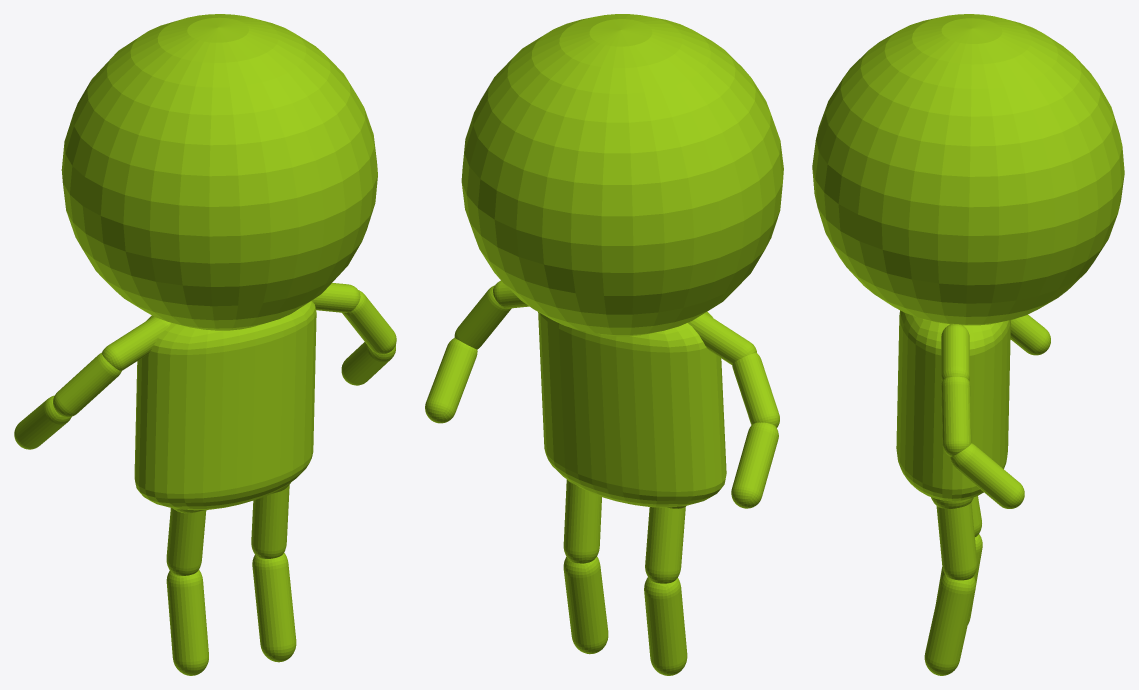
File: Stickman_000116.obj
3 views of the same model, side by side, from view 1: azimuth 30°, elevation 25°; view 2: azimuth 150°, elevation 25°; view 3: azimuth 270°, elevation 25° (orthographic). The views are drawn at different scales.
Parts seen in each view (by area): view 1: Head_Sphere.001, Body_Roundcube.002, LowerLegLeft_Roundcube.013, LowerLegRight_Roundcube.011, UpperLegLeft_Roundcube.012, UpperLegRight_Roundcube.010, UpperArmRight_Roundcube.015, ShoulderRight_Roundcube.014, UpperArmLeft_Roundcube.018, LowerArmRight_Roundcube.016, LowerArmLeft_Roundcube.019, ShoulderLeft_Roundcube.017; view 2: Head_Sphere.001, Body_Roundcube.002, LowerLegRight_Roundcube.011, LowerLegLeft_Roundcube.013, UpperLegRight_Roundcube.010, LowerArmRight_Roundcube.016, UpperLegLeft_Roundcube.012, LowerArmLeft_Roundcube.019, UpperArmRight_Roundcube.015, ShoulderRight_Roundcube.014, UpperArmLeft_Roundcube.018, ShoulderLeft_Roundcube.017; view 3: Head_Sphere.001, Body_Roundcube.002, LowerLegLeft_Roundcube.013, UpperLegLeft_Roundcube.012, LowerArmLeft_Roundcube.019, UpperArmLeft_Roundcube.018, ShoulderLeft_Roundcube.017, LowerArmRight_Roundcube.016.
Boxes of the visible parts, x1,y1,x2,y2 form: Head_Sphere.001: [61, 14, 377, 330]; Body_Roundcube.002: [134, 300, 316, 510]; LowerLegLeft_Roundcube.013: [252, 553, 296, 662]; LowerLegRight_Roundcube.011: [166, 570, 208, 675]; UpperLegLeft_Roundcube.012: [251, 485, 289, 558]; UpperLegRight_Roundcube.010: [166, 508, 206, 575]; UpperArmRight_Roundcube.015: [53, 352, 121, 417]; ShoulderRight_Roundcube.014: [102, 316, 170, 370]; UpperArmLeft_Roundcube.018: [342, 290, 396, 354]; LowerArmRight_Roundcube.016: [14, 395, 71, 449]; LowerArmLeft_Roundcube.019: [341, 342, 395, 385]; ShoulderLeft_Roundcube.017: [312, 283, 360, 312]; Head_Sphere.001: [461, 14, 783, 336]; Body_Roundcube.002: [538, 311, 726, 507]; LowerLegRight_Roundcube.011: [644, 577, 687, 675]; LowerLegLeft_Roundcube.013: [563, 556, 608, 654]; UpperLegRight_Roundcube.010: [645, 506, 685, 583]; LowerArmRight_Roundcube.016: [731, 422, 778, 508]; UpperLegLeft_Roundcube.012: [563, 479, 601, 563]; LowerArmLeft_Roundcube.019: [425, 338, 477, 423]; UpperArmRight_Roundcube.015: [732, 353, 779, 427]; ShoulderRight_Roundcube.014: [688, 313, 756, 364]; UpperArmLeft_Roundcube.018: [454, 285, 511, 349]; ShoulderLeft_Roundcube.017: [493, 280, 529, 308]; Head_Sphere.001: [812, 14, 1124, 325]; Body_Roundcube.002: [896, 310, 1010, 501]; LowerLegLeft_Roundcube.013: [924, 574, 975, 675]; UpperLegLeft_Roundcube.012: [936, 502, 977, 580]; LowerArmLeft_Roundcube.019: [950, 443, 1024, 508]; UpperArmLeft_Roundcube.018: [941, 376, 971, 456]; ShoulderLeft_Roundcube.017: [941, 324, 969, 380]; LowerArmRight_Roundcube.016: [1010, 314, 1050, 355].
Size of the model in its own units: 7.73 by 13.68 by 6.21.
